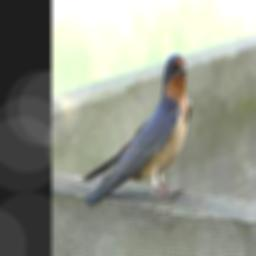Swallow: (63, 50, 194, 209)
